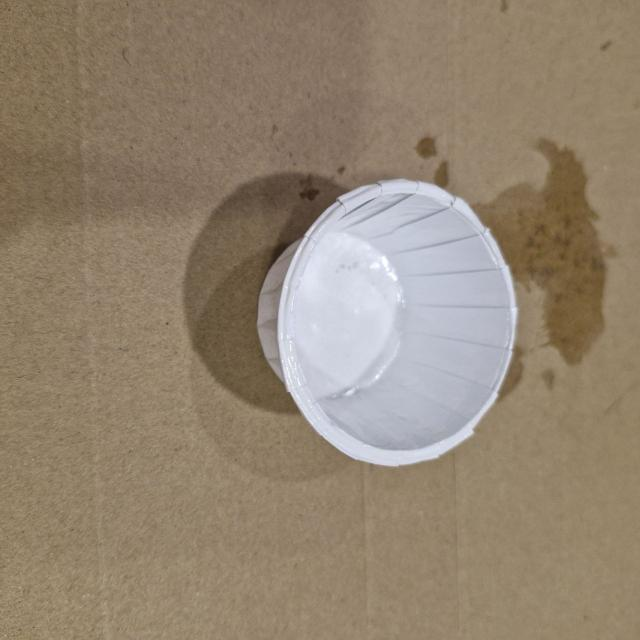paper: (243, 176, 527, 472)
